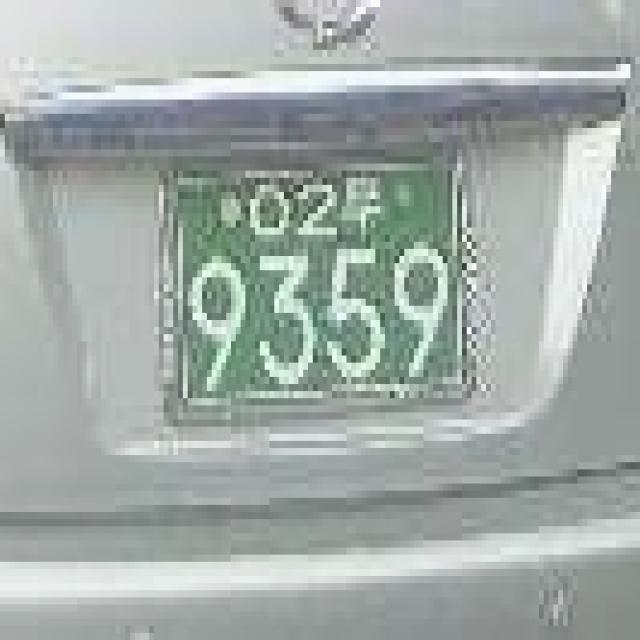illegal_plate: (151, 145, 487, 437)
